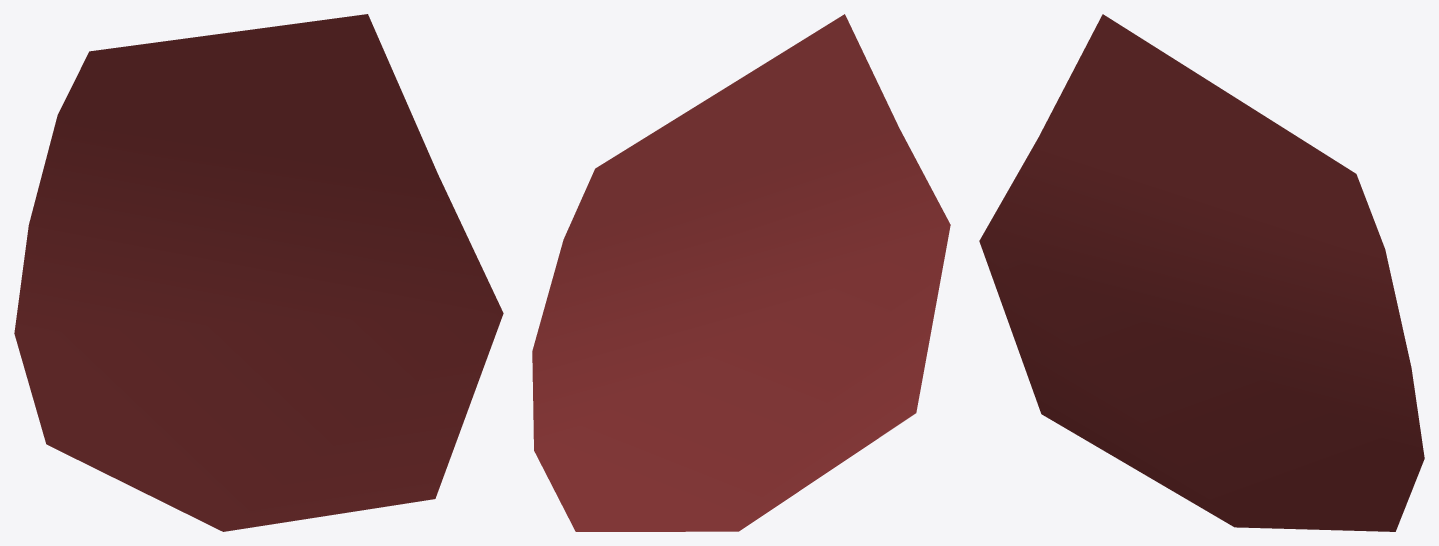
Rendered from zygomaticus-major-muscle-ol.glb.
3 views of the same model, side by side, from view 1: azimuth 90°, elevation 25°; view 2: azimuth 150°, elevation 25°; view 3: azimuth 270°, elevation 25° (orthographic). The views are drawn at different scales.
Visible parts, largest first — view 1: Zygomaticus major muscle.ol; view 2: Zygomaticus major muscle.ol; view 3: Zygomaticus major muscle.ol.
Boxes of the visible parts, x1,y1,x2,y2 form: Zygomaticus major muscle.ol: (14, 14, 503, 531); Zygomaticus major muscle.ol: (532, 14, 950, 531); Zygomaticus major muscle.ol: (979, 14, 1424, 531).
Bounding box in the file's own units: 0.00584 × 0.0129 × 0.0106.
